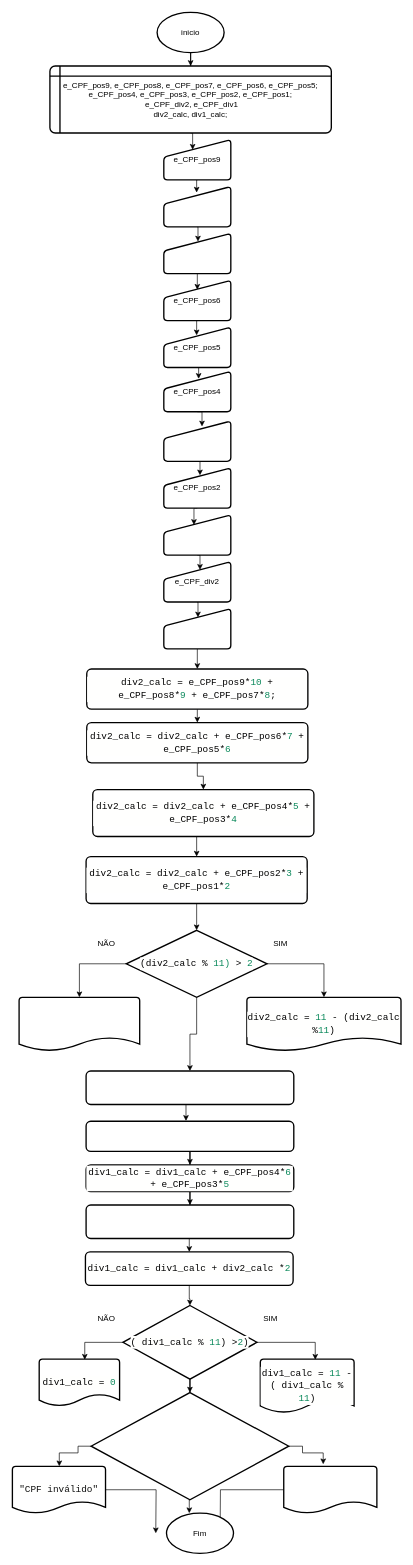
Image size: 413x1565. Some labels were removed from this diagram. Here are the shapes that lost their labels. From the top down, the centre of each, then its label:
point (197, 206): e_CPF_pos8
point (197, 253): e_CPF_pos7
point (197, 441): e_CPF_pos3
point (197, 534): e_CPF_pos1
point (197, 628): e_CPF_div1
point (79, 1023): div2_calc = 0
point (189, 1087): div1_calc = e_CPF_pos9* 11 + e_CPF_pos8* 10 + e_CPF_pos7* 9
point (189, 1136): div1_calc = div1_calc + e_CPF_pos6* 8 + e_CPF_pos5* 7
point (189, 1221): div1_calc = div1_calc + e_CPF_pos2* 4 + e_CPF_pos1* 3
point (189, 1446): (div2_calc == e_CPF_div2) && ( div1_calc == e_CPF_div1)
point (330, 1489): "CPF valido"
